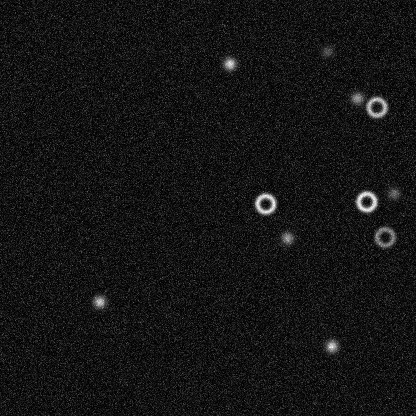Ring: (372, 224, 396, 248), (364, 95, 388, 119), (354, 189, 378, 213), (253, 191, 277, 215)
Spot: (91, 293, 107, 309), (349, 90, 365, 106), (323, 338, 339, 354), (385, 185, 401, 201), (221, 55, 237, 71), (279, 229, 295, 245), (319, 43, 335, 59)
